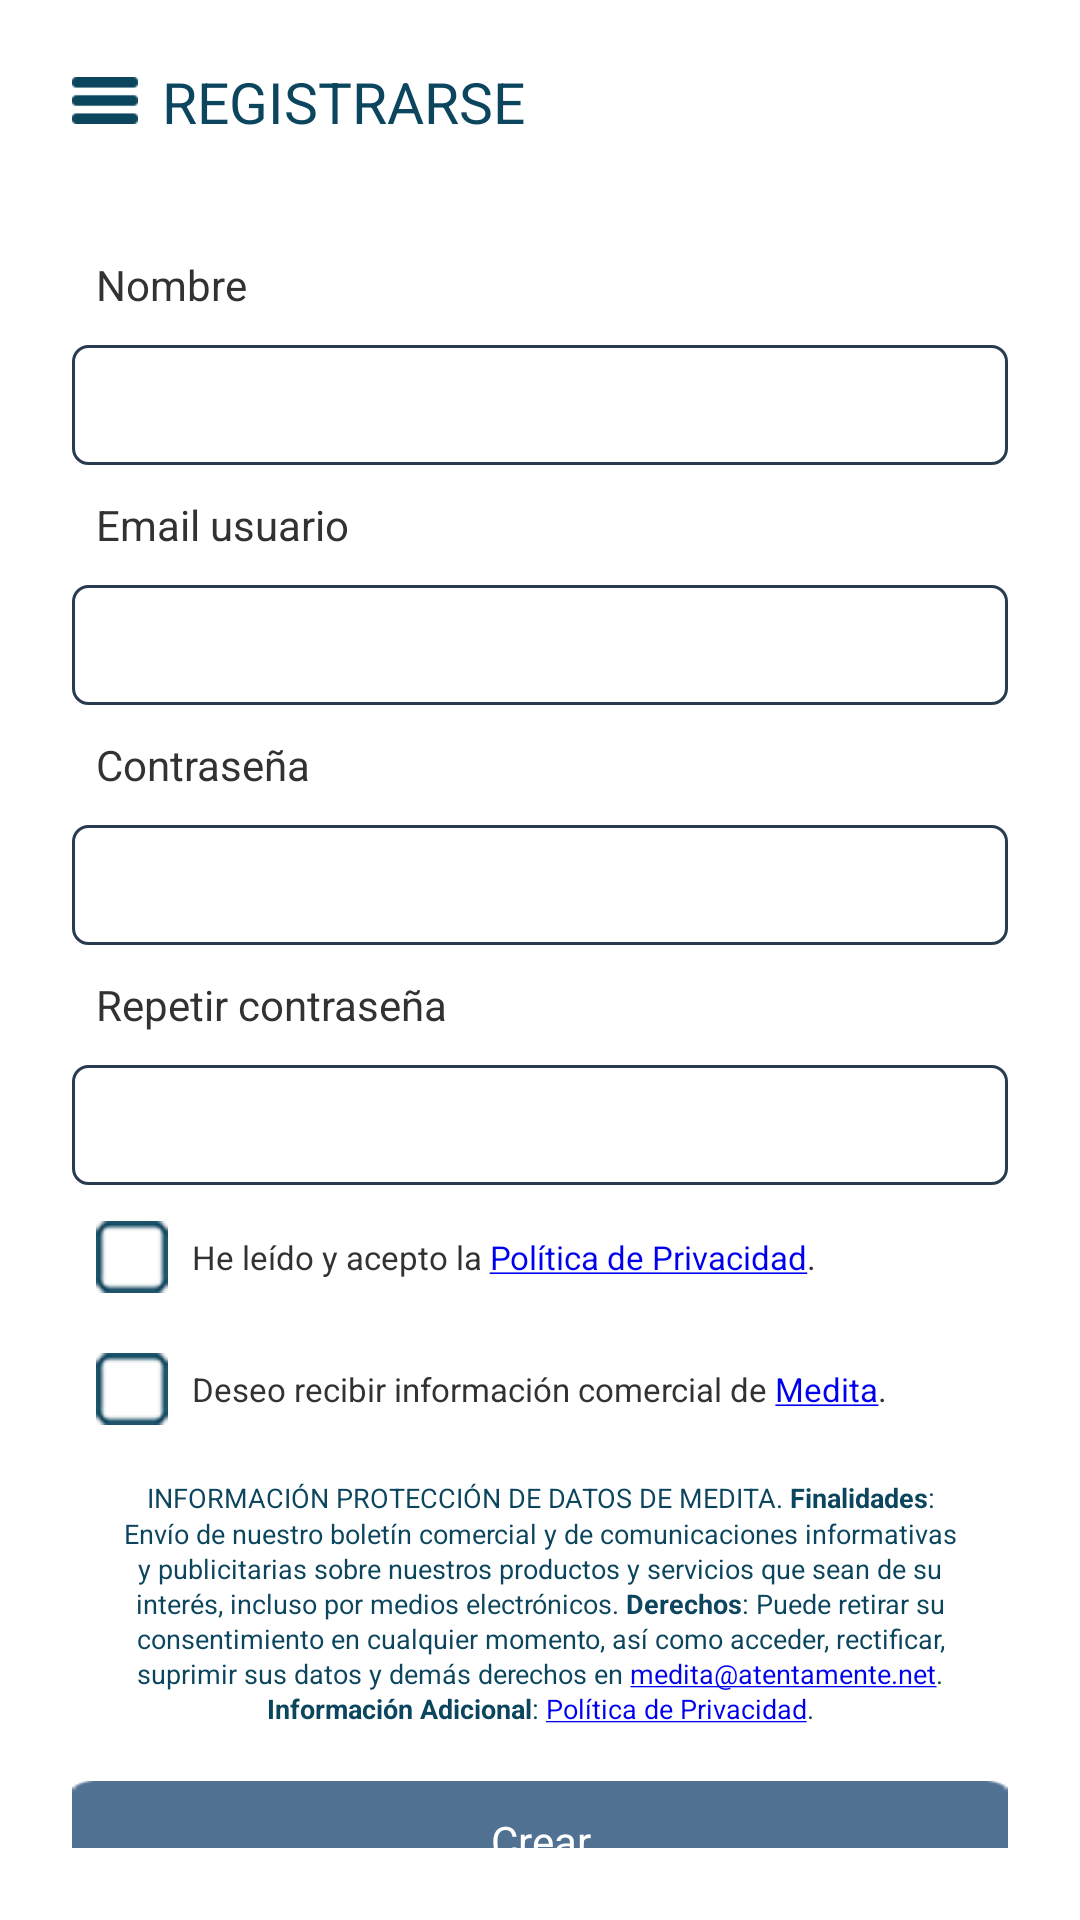

Icons on this 1080x1920 Android screen, each with the point to tap as point (x, y):
hamburguesa: point (105, 100)
